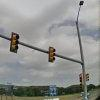traffic lights: (11, 32, 20, 53), (49, 46, 56, 62)
